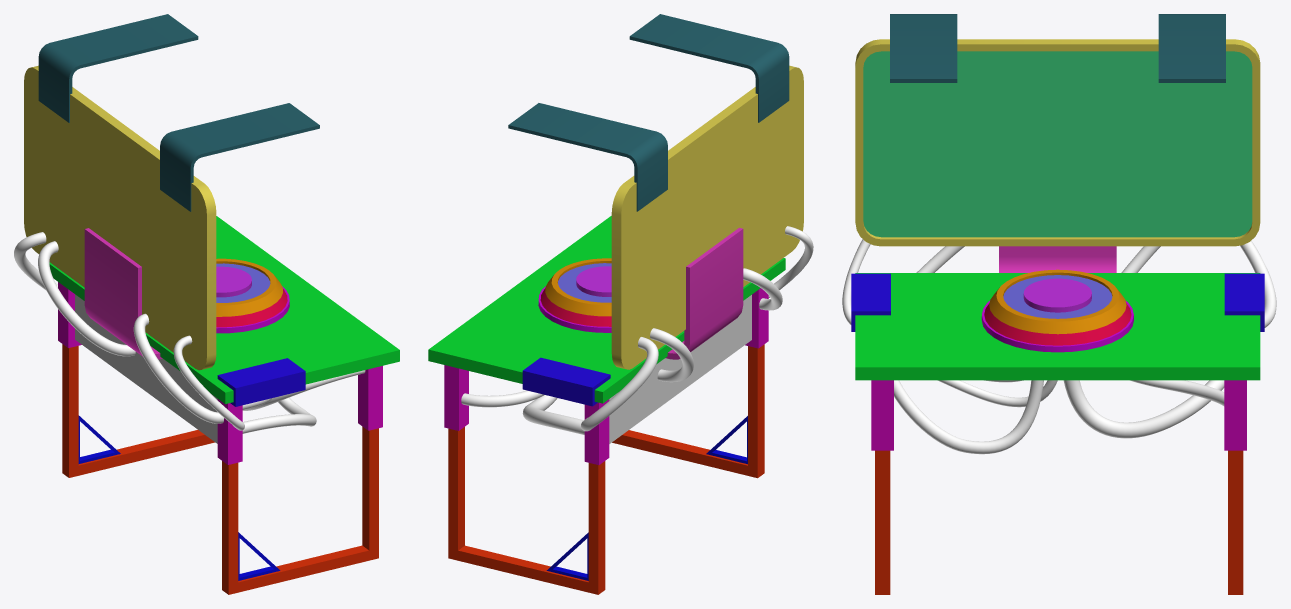
The model's file is WorkBench.fbx.
3 views of the same model, side by side, from view 1: azimuth 30°, elevation 25°; view 2: azimuth 150°, elevation 25°; view 3: azimuth 270°, elevation 25° (orthographic). The views are drawn at different scales.
Visible parts, largest first — view 1: WorkBench_Main, WorkBench_Legs; view 2: WorkBench_Main, WorkBench_Legs; view 3: WorkBench_Main, WorkBench_Legs.
Boxes of the visible parts, x1,y1,x2,y2 form: WorkBench_Main: (14,14,399,464); WorkBench_Legs: (62,344,378,594); WorkBench_Main: (428,14,813,464); WorkBench_Legs: (448,344,764,594); WorkBench_Main: (842,14,1276,454); WorkBench_Legs: (875,450,1243,594).
Size of the model in its own units: 289 by 561 by 453.
